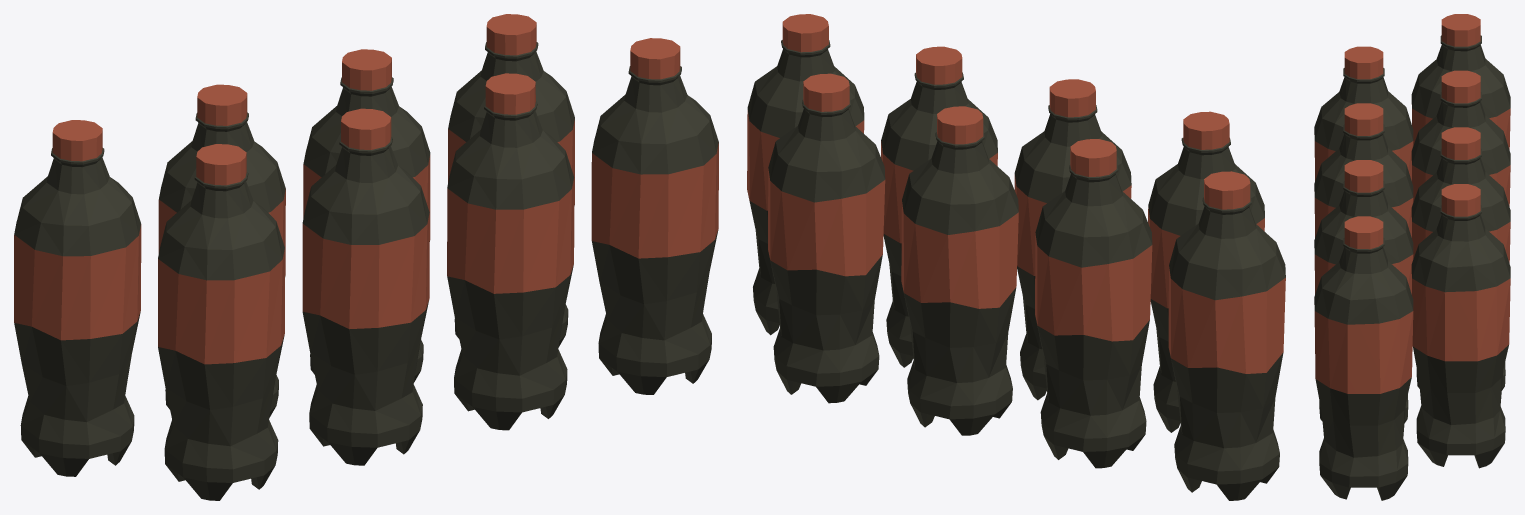
The model's file is shelveWithProducts3.fbx.
3 renders of one model, left to right at view 1: azimuth 30°, elevation 25°; view 2: azimuth 150°, elevation 25°; view 3: azimuth 270°, elevation 25°, orthographic. The views are drawn at different scales.
Parts seen in each view (by area): view 1: Bottle.002, Bottle.006, Bottle.005, Bottle, Bottle.001, Bottle.004, Bottle.003, Bottle.007; view 2: Bottle.004, Bottle, Bottle.003, Bottle.007, Bottle.006, Bottle.002, Bottle.005, Bottle.001; view 3: Bottle.006, Bottle.007, Bottle.005, Bottle.004, Bottle.001, Bottle.003, Bottle, Bottle.002.
Part boxes in pixels (left/top/right/bottom): Bottle.002: left=302, top=108, right=429, bottom=465; Bottle.006: left=591, top=38, right=718, bottom=394; Bottle.005: left=447, top=73, right=574, bottom=430; Bottle: left=14, top=120, right=141, bottom=476; Bottle.001: left=158, top=144, right=284, bottom=500; Bottle.004: left=303, top=49, right=430, bottom=382; Bottle.003: left=158, top=84, right=285, bottom=417; Bottle.007: left=448, top=14, right=574, bottom=346; Bottle.004: left=901, top=106, right=1018, bottom=435; Bottle: left=1168, top=171, right=1285, bottom=500; Bottle.003: left=1035, top=139, right=1152, bottom=468; Bottle.007: left=768, top=73, right=885, bottom=403; Bottle.006: left=747, top=14, right=864, bottom=335; Bottle.002: left=1014, top=79, right=1131, bottom=400; Bottle.005: left=881, top=46, right=997, bottom=367; Bottle.001: left=1148, top=111, right=1264, bottom=432; Bottle.006: left=1314, top=216, right=1413, bottom=500; Bottle.007: left=1411, top=184, right=1510, bottom=468; Bottle.005: left=1314, top=160, right=1413, bottom=423; Bottle.004: left=1411, top=127, right=1510, bottom=390; Bottle.001: left=1314, top=46, right=1413, bottom=180; Bottle.003: left=1411, top=70, right=1510, bottom=206; Bottle: left=1411, top=14, right=1510, bottom=149; Bottle.002: left=1314, top=103, right=1413, bottom=237.
Bounding box in the file's own units: 863 × 434 × 293.
